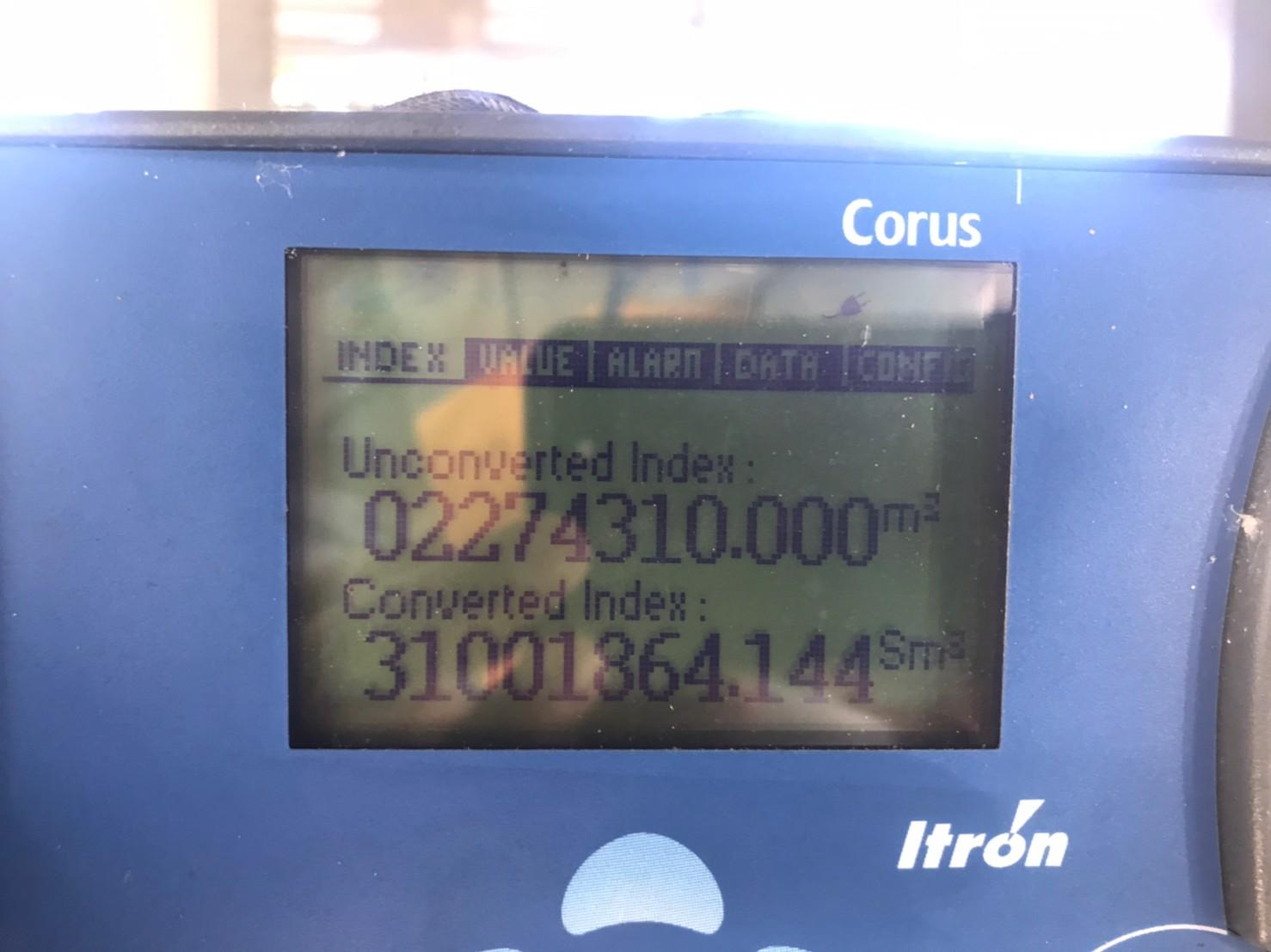digital_screen: (286, 249, 1014, 752)
